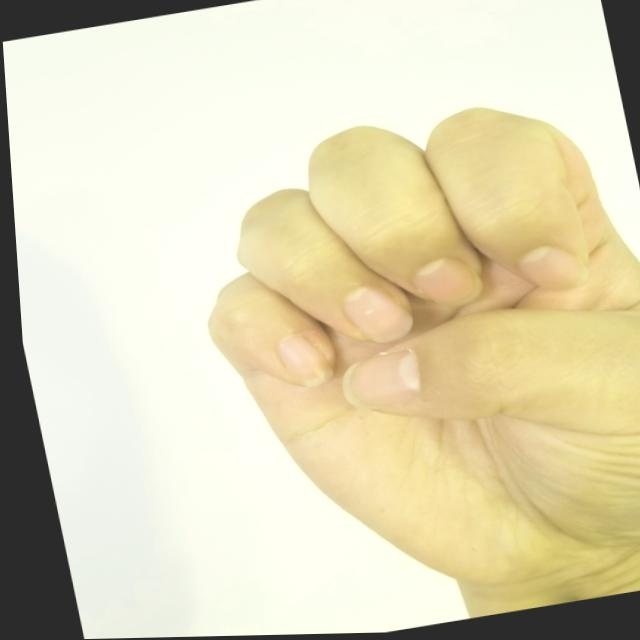E: (153, 76, 639, 637)
